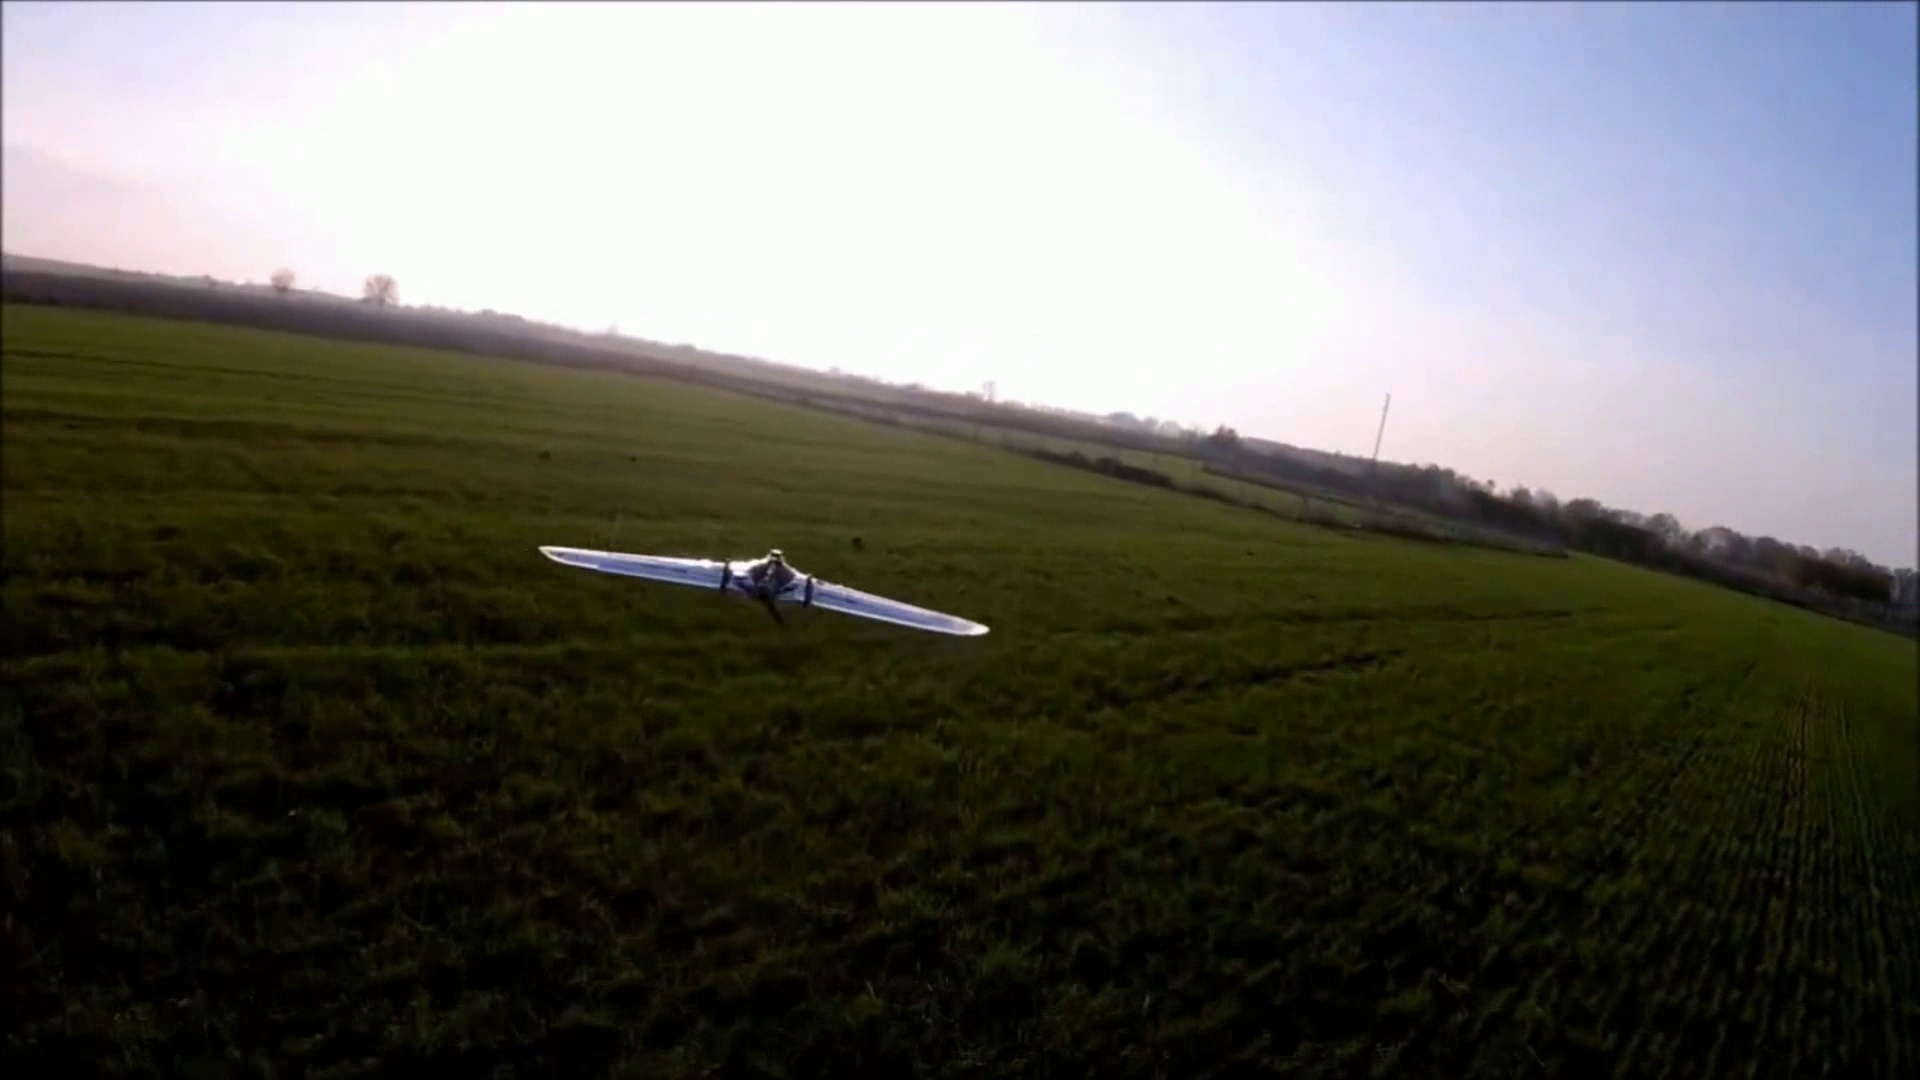airplane: (538, 545, 992, 644)
